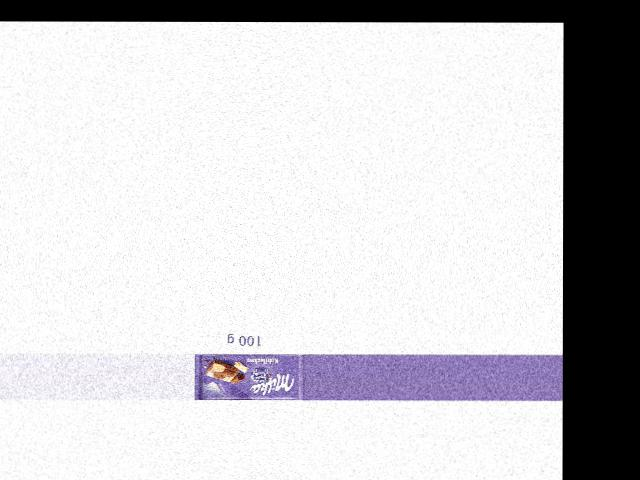chocolate: (194, 352, 304, 400)
